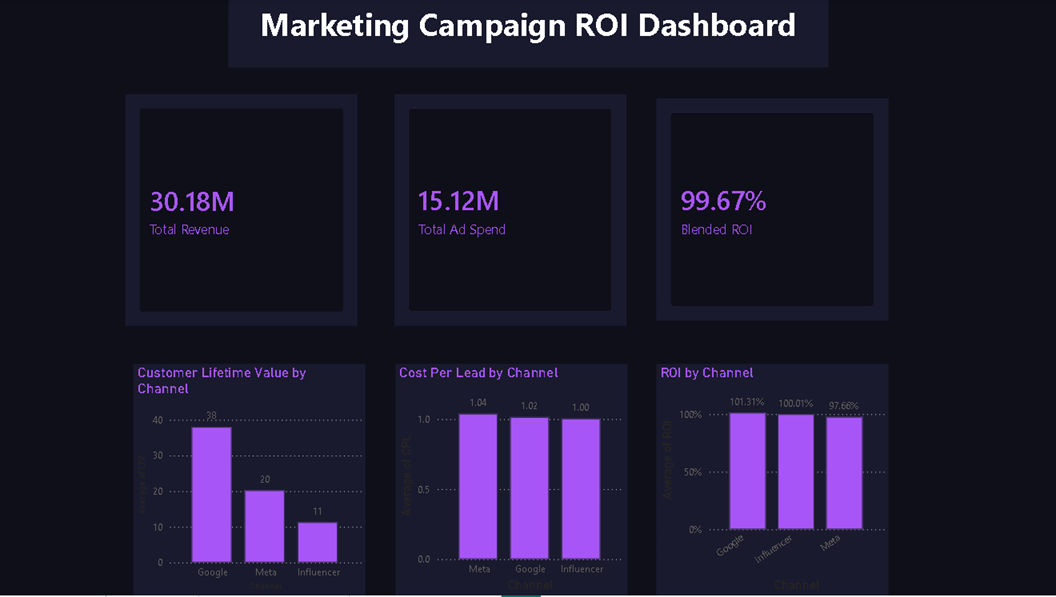

What the dashboard file says about the page in this screenshot:
{"tool":"powerbi","page":{"name":"Overview","canvas":[1280,720],"ordinal":0},"visuals":[{"type":"cardVisual","title":"Cost Per Lead by Channel","fields":{"Data":["Sum(Metrics.Total_Spend)"]},"box":[478.4,114.6,279.9,279.9],"z":0},{"type":"cardVisual","title":"Customer Lifetime Value by Channel","fields":{"Data":["Sum(Metrics.Total_Revenue)"]},"box":[153.8,115,280,280],"z":1000},{"type":"cardVisual","title":"ROI by Channel","fields":{"Data":["Metrics.Blended_ROI"]},"box":[793.8,119.4,279.9,269],"z":2000},{"type":"clusteredColumnChart","title":"Cost Per Lead by Channel","fields":{"Category":["Metrics.Channel"],"Y":["Avg(Metrics.CPL)"]},"box":[479,440.4,279.9,279.9],"z":3000},{"type":"clusteredColumnChart","title":"ROI by Channel","fields":{"Category":["Metrics.Channel"],"Y":["Avg(Metrics.ROI)"]},"box":[793.8,440.4,279.9,279.9],"z":4000},{"type":"clusteredColumnChart","title":"Customer Lifetime Value by Channel","fields":{"Category":["Metrics.Channel"],"Y":["Avg(Metrics.LTV)"]},"box":[162.9,440.4,279.9,279.9],"z":5000},{"type":"textbox","box":[277.5,0,723.9,82],"z":6000}]}

Visuals, with their boxes in screenshot pixels (x1, y1, x2, y2), scaled from the page's 1280x720 canvas onto the 1056x597 screenshot:
"Cost Per Lead by Channel" cardVisual: locate(395, 95, 626, 327)
"Customer Lifetime Value by Channel" cardVisual: locate(127, 95, 358, 328)
"ROI by Channel" cardVisual: locate(655, 99, 886, 322)
"Cost Per Lead by Channel" clusteredColumnChart: locate(395, 365, 626, 596)
"ROI by Channel" clusteredColumnChart: locate(655, 365, 886, 596)
"Customer Lifetime Value by Channel" clusteredColumnChart: locate(134, 365, 365, 596)
textbox: locate(229, 0, 826, 68)
